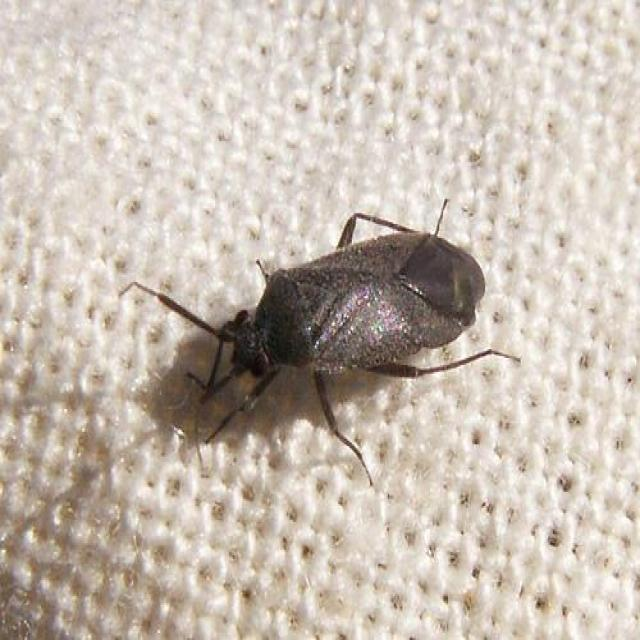Miridae-Adult-: (102, 187, 547, 493)
